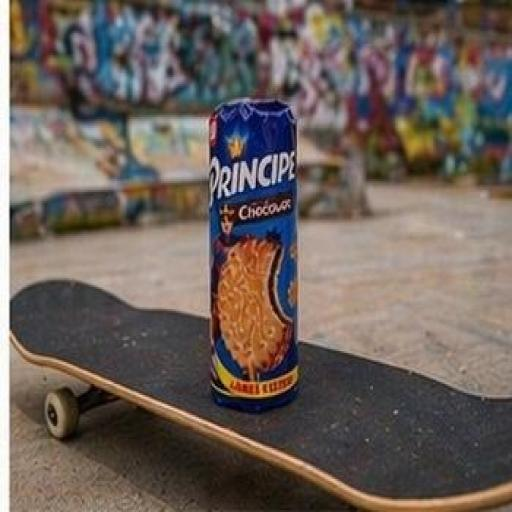prince: (139, 54, 386, 462)
